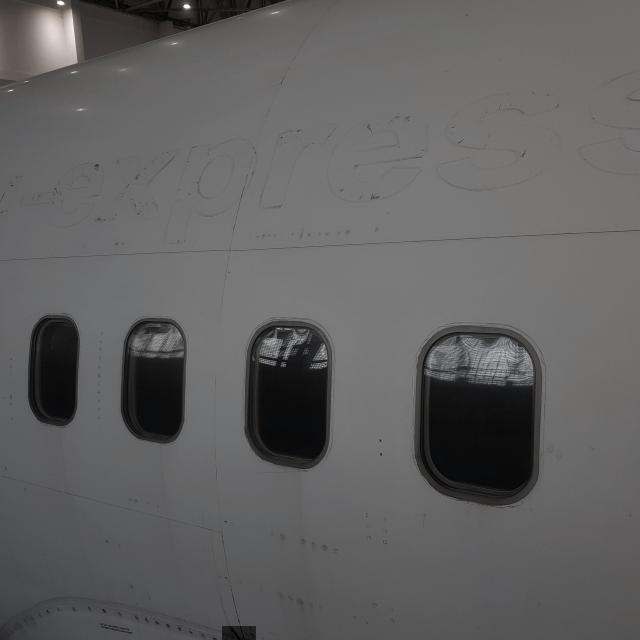crack: (223, 627, 258, 640)
